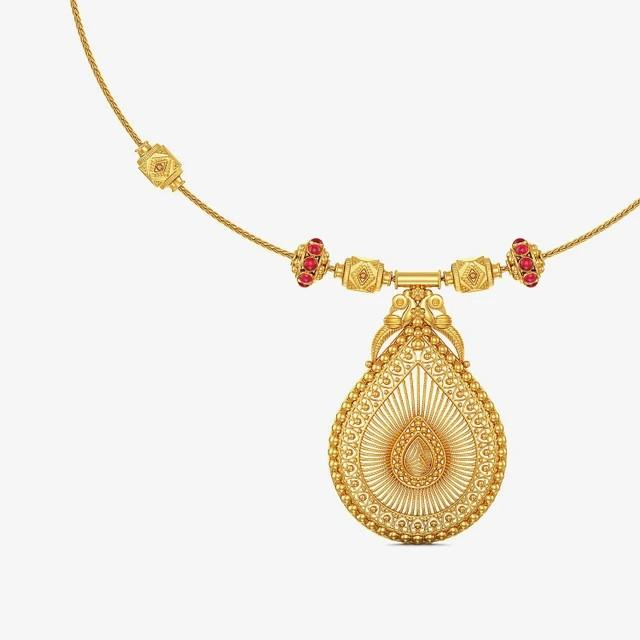missing gem: (405, 437, 434, 476)
